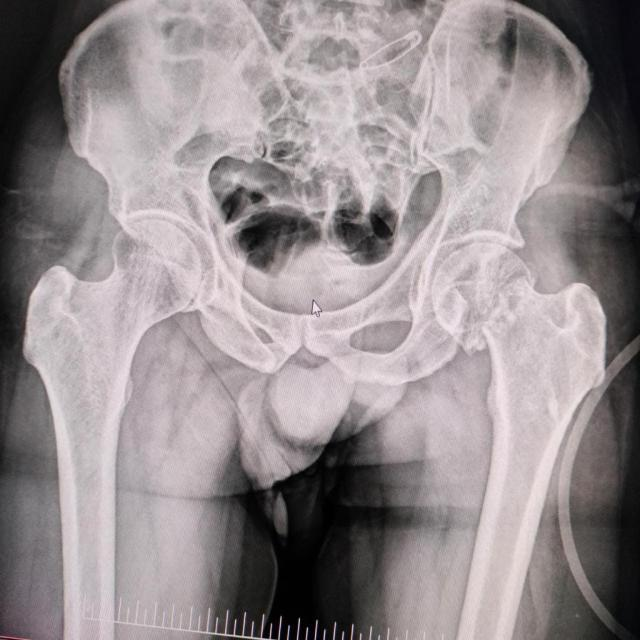left-neck: (478, 277, 608, 522), (432, 240, 533, 356)
normal-right: (23, 219, 202, 519)
